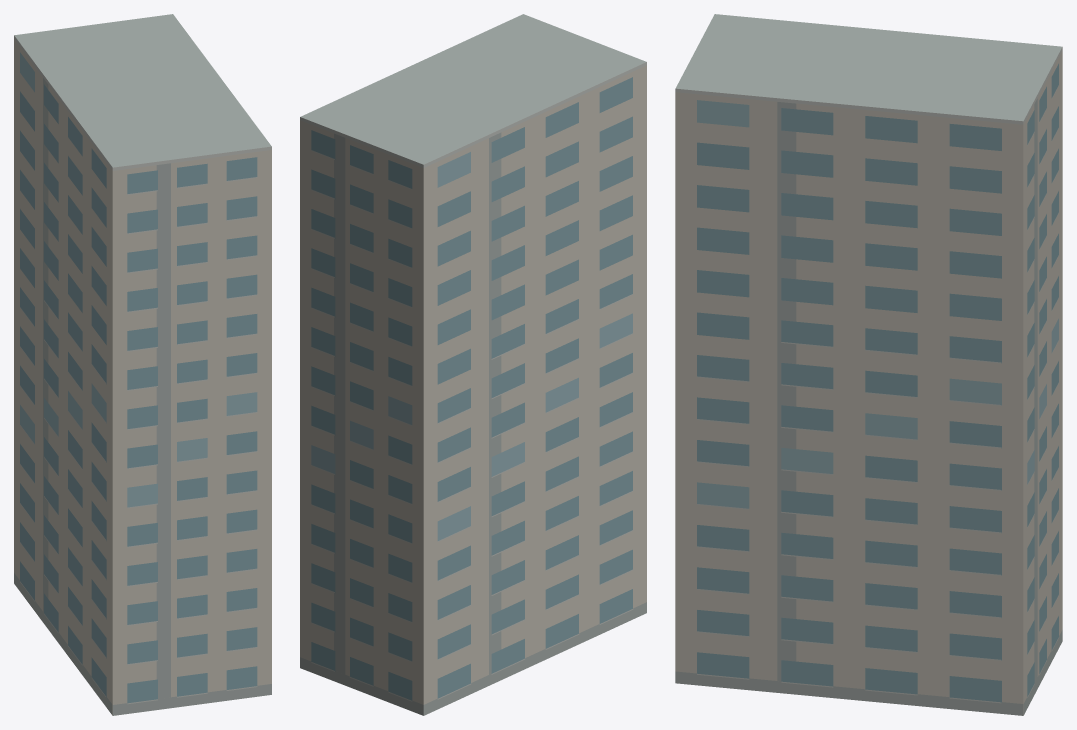
The model's file is residential-869f4b88-a792-4118-815c-eac1706f6bfd.glb.
The picture shows the model from 3 angles, left to right: view 1: azimuth 30°, elevation 25°; view 2: azimuth 150°, elevation 25°; view 3: azimuth 270°, elevation 25°; orthographic projection. The views are drawn at different scales.
Visible parts, largest first — view 1: residential-869f4b88-a792-4118-815c-eac1706f6bfd.tmp; view 2: residential-869f4b88-a792-4118-815c-eac1706f6bfd.tmp; view 3: residential-869f4b88-a792-4118-815c-eac1706f6bfd.tmp.
Part boxes in pixels (x1=…): residential-869f4b88-a792-4118-815c-eac1706f6bfd.tmp: x1=14, y1=14, x2=271, y2=715; residential-869f4b88-a792-4118-815c-eac1706f6bfd.tmp: x1=300, y1=14, x2=646, y2=715; residential-869f4b88-a792-4118-815c-eac1706f6bfd.tmp: x1=675, y1=14, x2=1062, y2=715.
Size of the model in its own units: 15.48 by 40 by 23.61.
